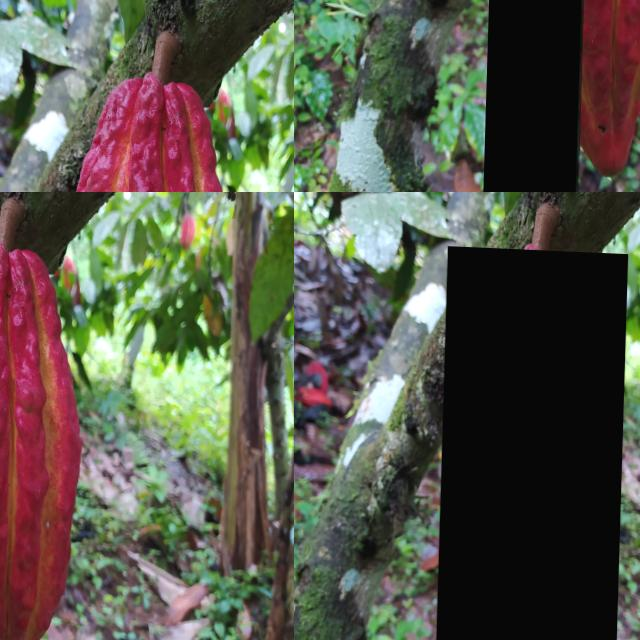Monilia: (486, 0, 586, 192)
Sana: (437, 243, 628, 640)
